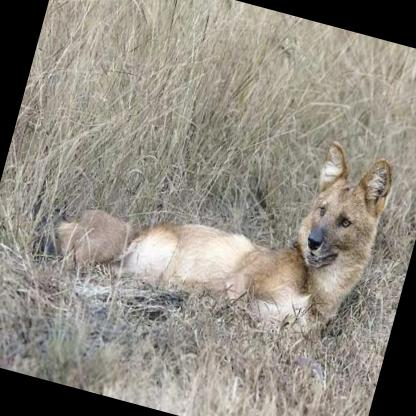dhole: (35, 74, 397, 352)
